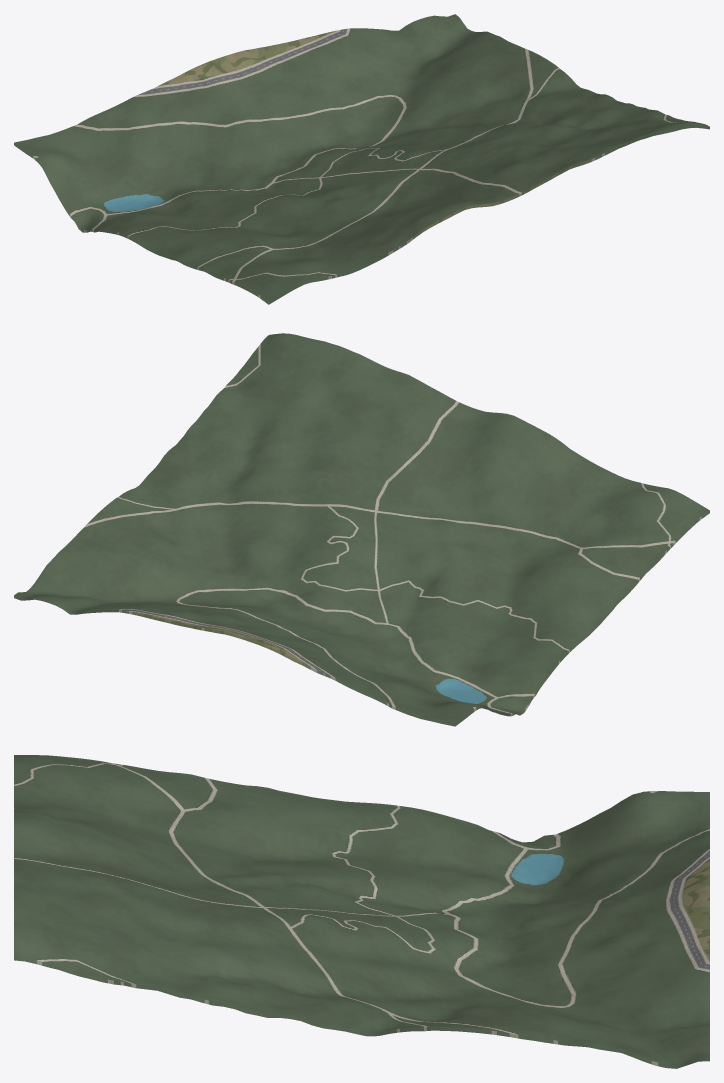
The picture shows the model from 3 angles, top to bottom: view 1: azimuth 30°, elevation 25°; view 2: azimuth 150°, elevation 25°; view 3: azimuth 270°, elevation 25°; orthographic projection. The views are drawn at different scales.
Parts seen in each view (by area): view 1: terrain; view 2: terrain; view 3: terrain.
Boxes of the visible parts, x1,y1,x2,y2 form: terrain: (14,14,709,304); terrain: (14,333,709,726); terrain: (14,755,709,1068).
Bounding box in the file's own units: 500 × 153 × 500.
1 material, 1 textured.
